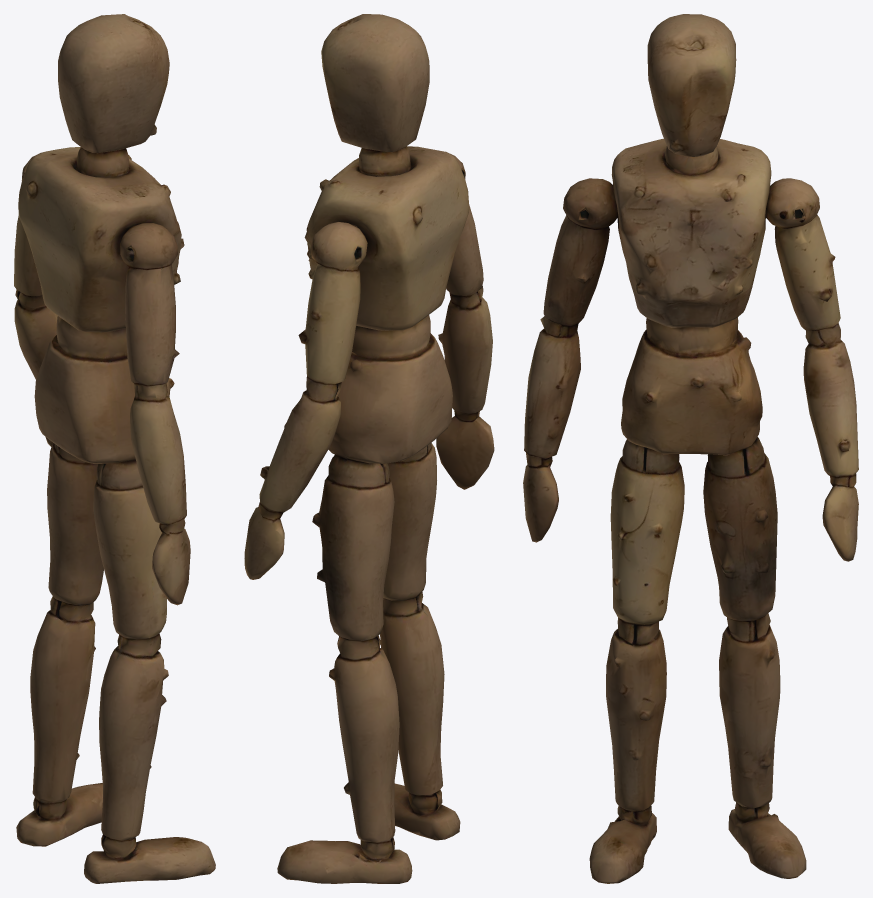
Rendered from mannequin_a.glb.
3 renders of one model, left to right at view 1: azimuth 30°, elevation 25°; view 2: azimuth 150°, elevation 25°; view 3: azimuth 270°, elevation 25°, orthographic.
Visible parts, largest first — view 1: tripo_node_2555aab5-cdc6-4187-b450-d56765bb57d9; view 2: tripo_node_2555aab5-cdc6-4187-b450-d56765bb57d9; view 3: tripo_node_2555aab5-cdc6-4187-b450-d56765bb57d9.
Boxes of the visible parts, left/top/right/bottom form: tripo_node_2555aab5-cdc6-4187-b450-d56765bb57d9: left=14, top=14, right=215, bottom=883; tripo_node_2555aab5-cdc6-4187-b450-d56765bb57d9: left=244, top=14, right=494, bottom=883; tripo_node_2555aab5-cdc6-4187-b450-d56765bb57d9: left=523, top=14, right=858, bottom=883.
Bounding box in the file's own units: 0.1599 × 1 × 0.3641.
1 material, 1 textured.
